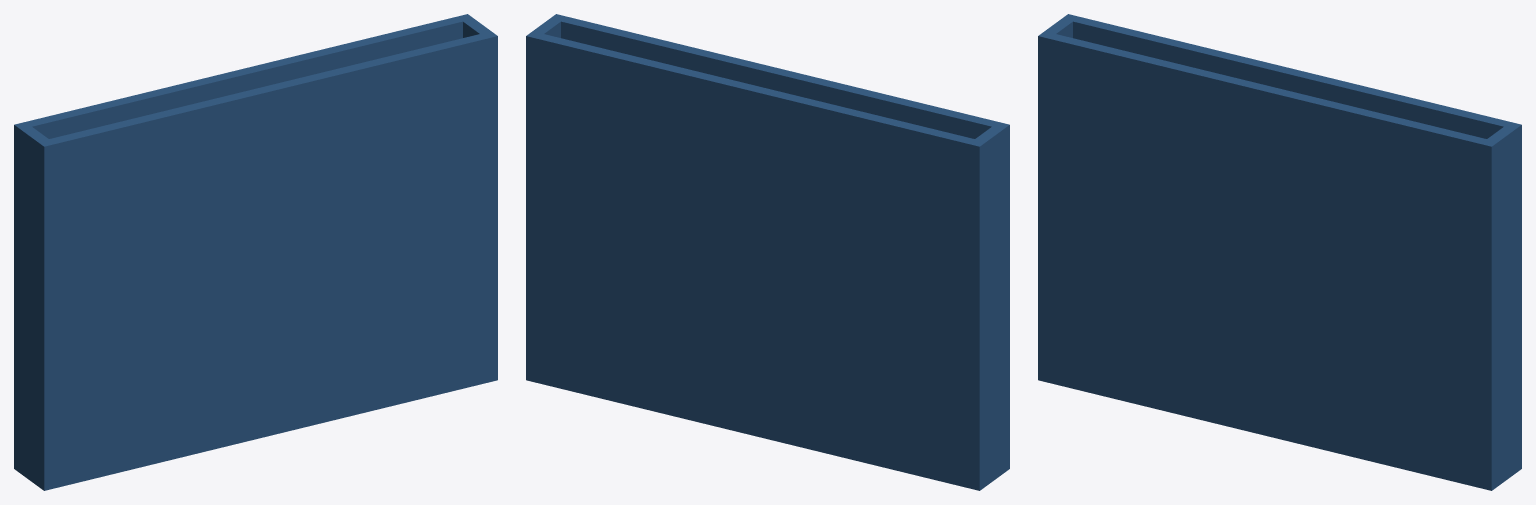
Rendered from sam-holder-H1.glb.
The picture shows the model from 3 angles, left to right: view 1: azimuth 30°, elevation 25°; view 2: azimuth 150°, elevation 25°; view 3: azimuth 330°, elevation 25°; orthographic projection.
Parts seen in each view (by area): view 1: sam_holder_H1_unplaced; view 2: sam_holder_H1_unplaced; view 3: sam_holder_H1_unplaced.
Boxes of the visible parts, x1,y1,x2,y2 form: sam_holder_H1_unplaced: (14, 14, 497, 490); sam_holder_H1_unplaced: (526, 14, 1009, 490); sam_holder_H1_unplaced: (1038, 14, 1521, 490).
Bounding box in the file's own units: 0.2 × 0.145 × 0.023.
